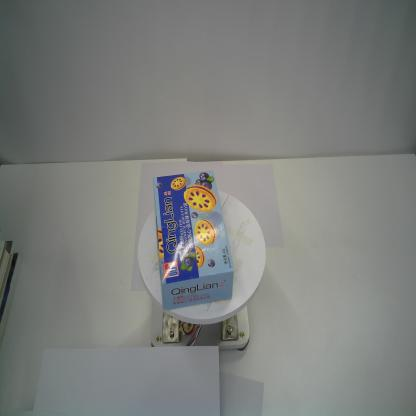Dessert: (152, 168, 235, 311)
